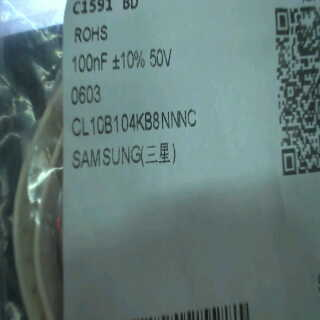100nF: (68, 49, 109, 77)
